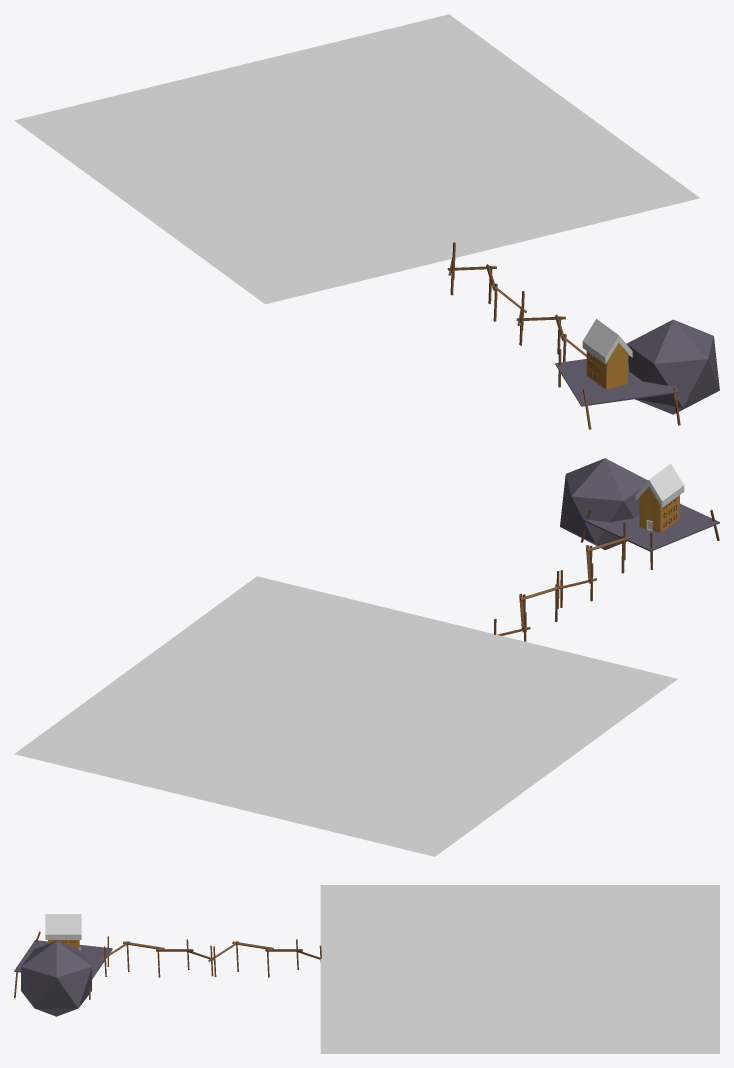
File: House.fbx
The picture shows the model from 3 angles, top to bottom: view 1: azimuth 30°, elevation 25°; view 2: azimuth 150°, elevation 25°; view 3: azimuth 270°, elevation 25°; orthographic projection. The views are drawn at different scales.
Visible parts, largest first — view 1: Island, Base, Roof, PlankWalk.001, PlankWalk; view 2: Island, Base, Roof, PlankWalk, PlankWalk.001; view 3: Island, Base, Roof, PlankWalk, PlankWalk.001.
Boxes of the visible parts, bbox=[...] form: Island: bbox=[14, 14, 700, 304]; Base: bbox=[555, 319, 719, 429]; Roof: bbox=[582, 319, 632, 364]; PlankWalk.001: bbox=[447, 242, 526, 321]; PlankWalk: bbox=[516, 292, 586, 361]; Island: bbox=[14, 576, 677, 856]; Base: bbox=[560, 458, 719, 569]; Roof: bbox=[635, 464, 684, 507]; PlankWalk: bbox=[560, 522, 630, 607]; PlankWalk.001: bbox=[494, 571, 563, 641]; Island: bbox=[320, 885, 719, 1053]; Base: bbox=[14, 931, 112, 1016]; Roof: bbox=[45, 914, 81, 939]; PlankWalk: bbox=[100, 939, 213, 977]; PlankWalk.001: bbox=[208, 939, 321, 977].
Bounding box in the file's own units: 100 × 21.85 × 177.
